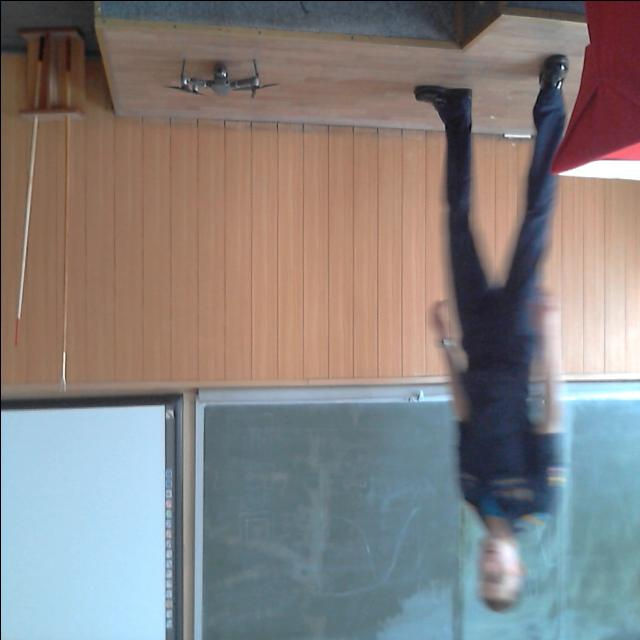drone: (159, 48, 278, 110)
